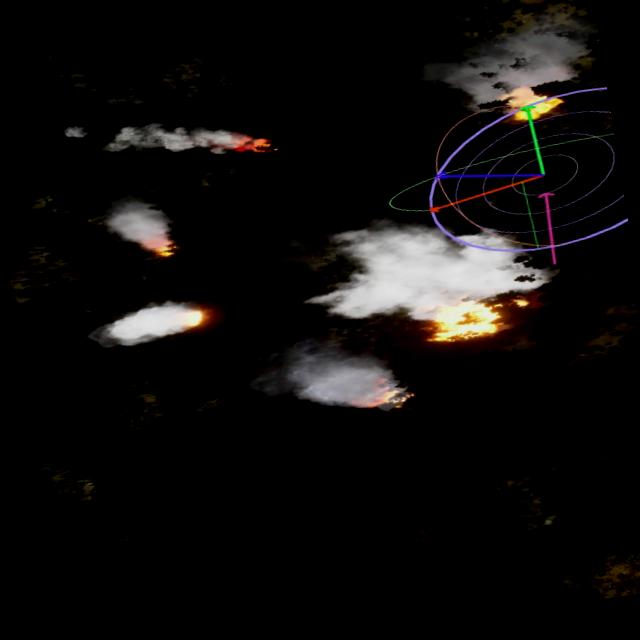fire: (422, 299, 493, 345), (359, 372, 419, 417), (510, 84, 559, 122), (140, 234, 177, 263), (236, 130, 276, 154), (176, 306, 208, 328)
smoke: (300, 197, 564, 336), (404, 10, 604, 116), (66, 100, 238, 175), (274, 331, 403, 415), (84, 299, 194, 351), (101, 200, 182, 248)
